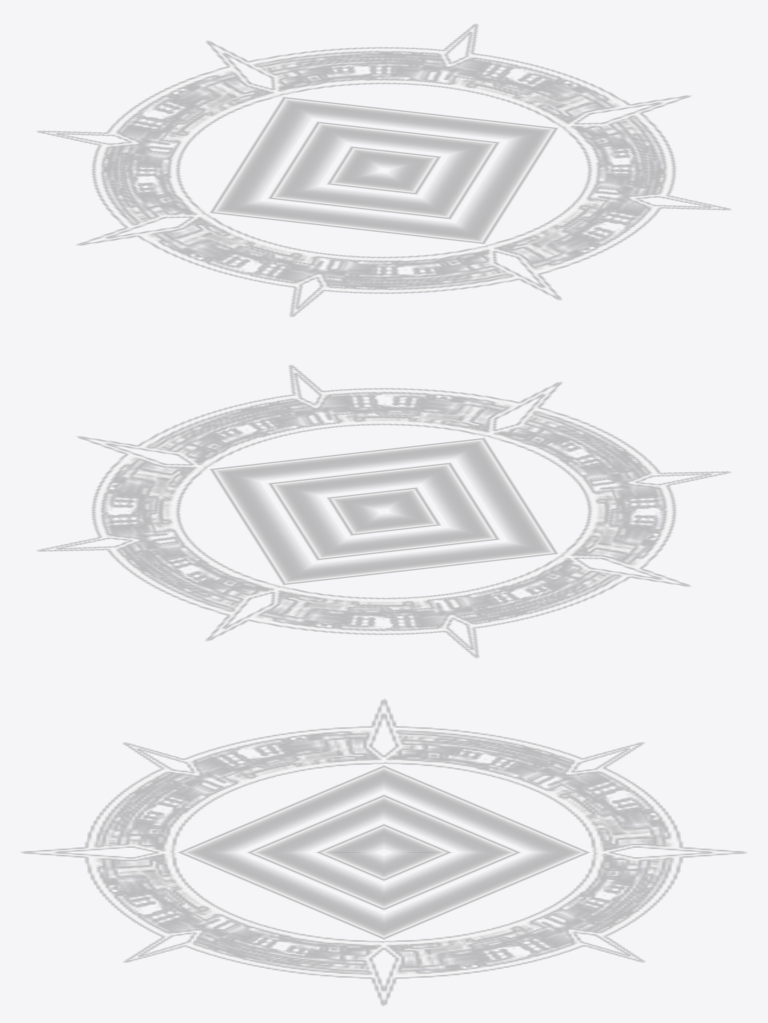
The model's file is si_hex_0600.glb.
The picture shows the model from 3 angles, top to bottom: view 1: azimuth 30°, elevation 25°; view 2: azimuth 150°, elevation 25°; view 3: azimuth 270°, elevation 25°; orthographic projection. The views are drawn at different scales.
Visible parts, largest first — view 1: layer_00_si_hex_0602; view 2: layer_00_si_hex_0602; view 3: layer_00_si_hex_0602.
Boxes of the visible parts, x1,y1,x2,y2 form: layer_00_si_hex_0602: (38,24,729,316); layer_00_si_hex_0602: (38,365,729,657); layer_00_si_hex_0602: (22,699,745,1005).
Bounding box in the file's own units: 12800 × 0.000966 × 12800.
1 material, 1 textured.
